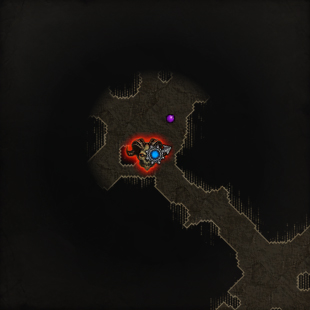Guardian: (124, 135, 167, 172)
